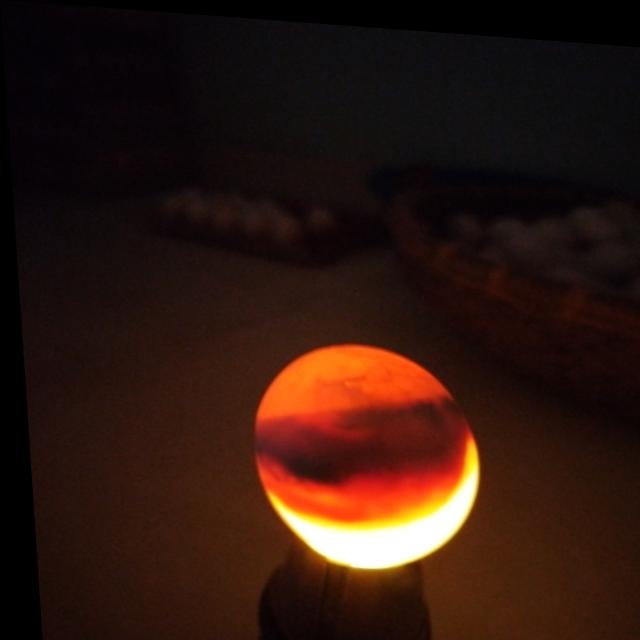Area Infectada: (247, 391, 462, 478)
